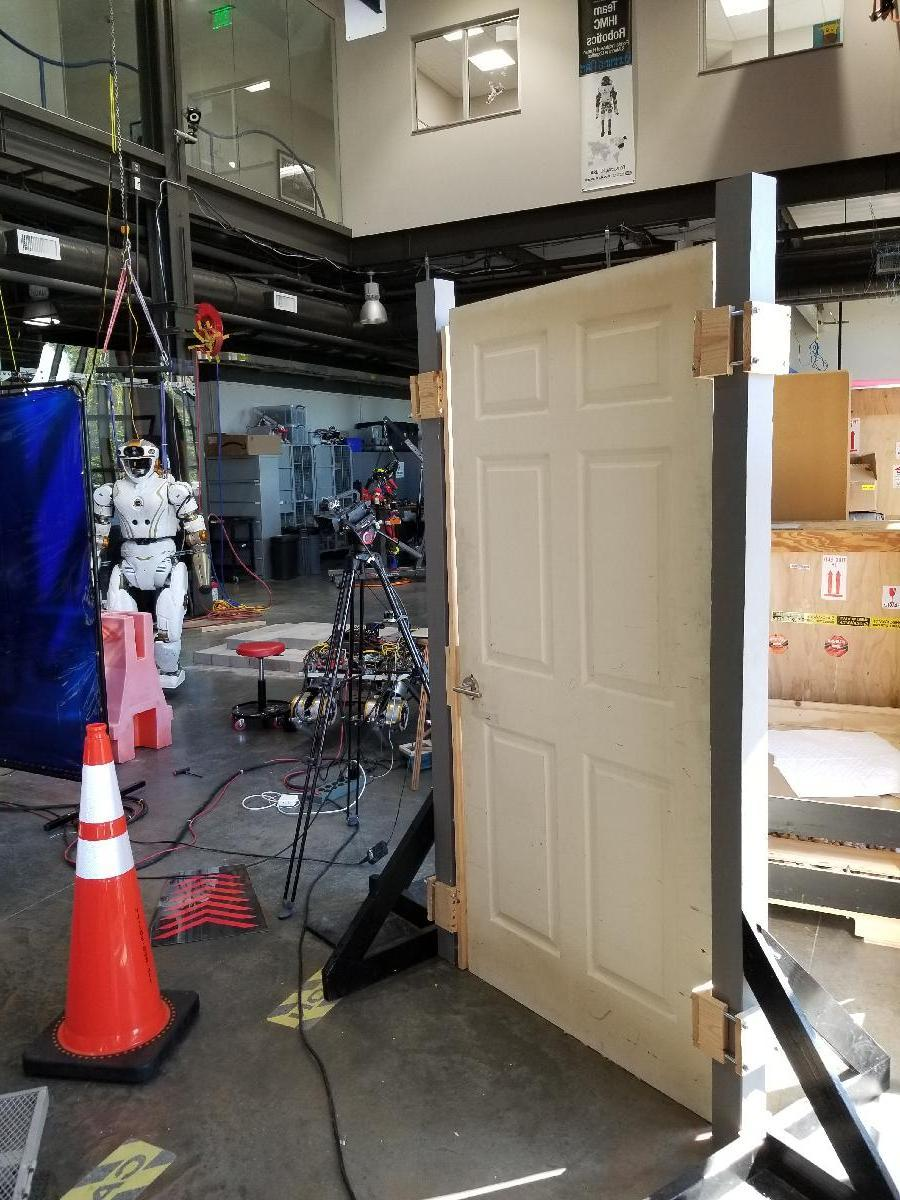door: (449, 242, 714, 1127)
handle: (449, 672, 489, 705)
